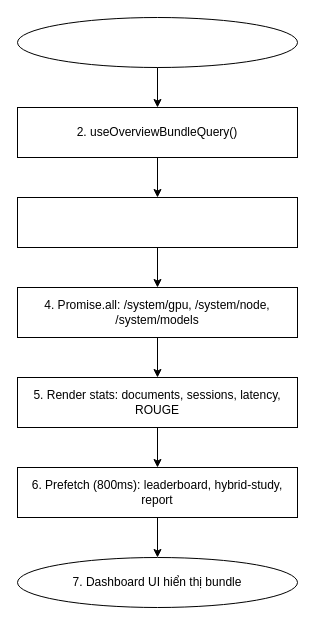
This 315x625 diagram has some shape labels left out. The box of each missing label's shape, as (x1, y1, x2, y2) in pixels:
1. Overview.jsx mount: (16, 16, 298, 68)
3. Promise.all: /health, /metrics, /analytics/dashboard: (16, 196, 298, 248)
